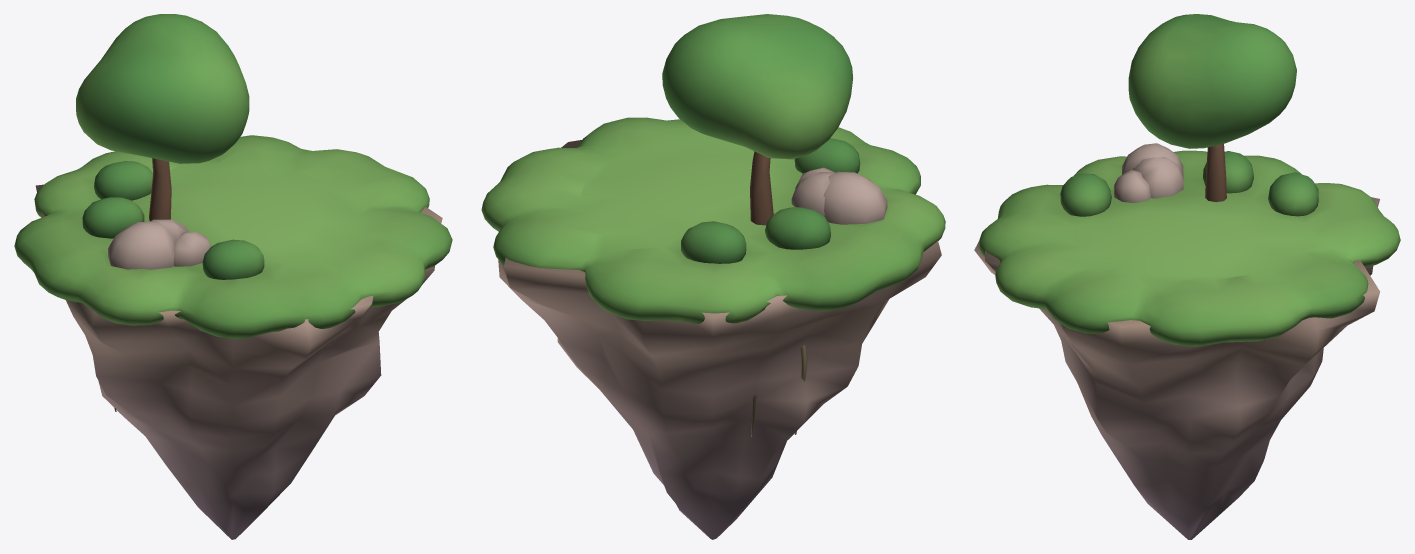
Rendered from env_sky_islet_0.glb.
3 renders of one model, left to right at view 1: azimuth 30°, elevation 25°; view 2: azimuth 150°, elevation 25°; view 3: azimuth 270°, elevation 25°, orthographic. The views are drawn at different scales.
Visible parts, largest first — view 1: SM_sky_sky_vc_x0_z0.024; view 2: SM_sky_sky_vc_x0_z0.024; view 3: SM_sky_sky_vc_x0_z0.024.
Boxes of the visible parts, x1,y1,x2,y2 form: SM_sky_sky_vc_x0_z0.024: (14,14,452,539); SM_sky_sky_vc_x0_z0.024: (481,14,945,539); SM_sky_sky_vc_x0_z0.024: (974,14,1400,539).
Bounding box in the file's own units: 7.57 × 9.71 × 7.64.
